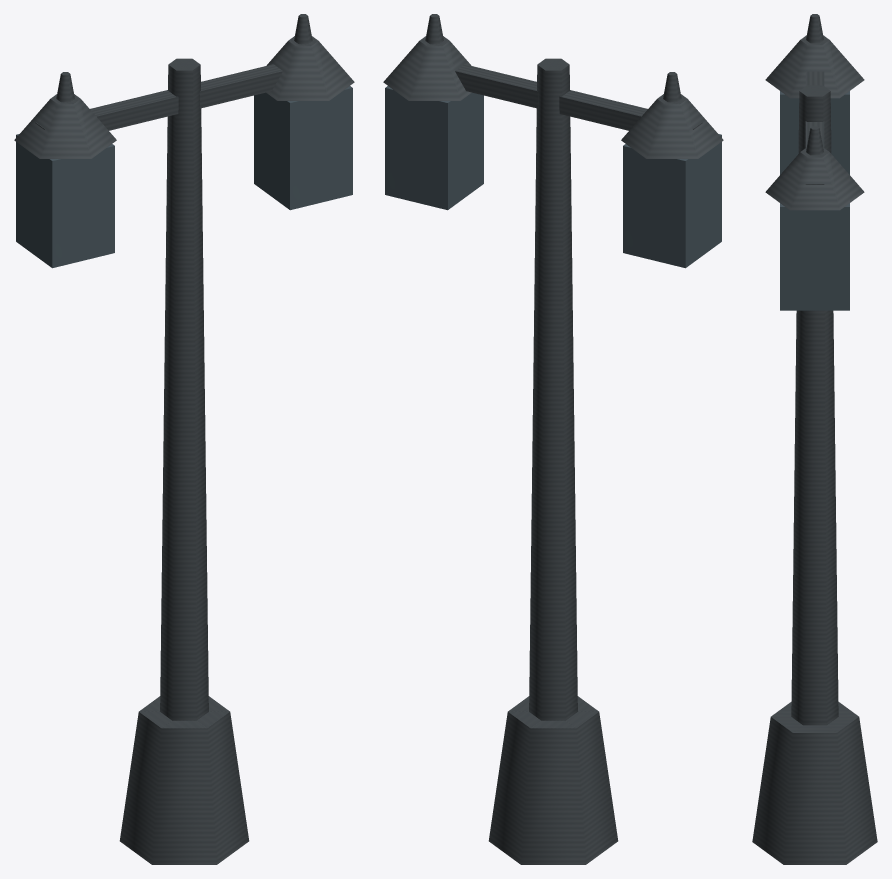
File: street-lamp-heritage.lod1.gltf
3 views of the same model, side by side, from view 1: azimuth 30°, elevation 25°; view 2: azimuth 150°, elevation 25°; view 3: azimuth 270°, elevation 25° (orthographic). The views are drawn at different scales.
Parts seen in each view (by area): view 1: street-lamp-heritage; view 2: street-lamp-heritage; view 3: street-lamp-heritage.
Part boxes in pixels (box(x1,y1,x2,y2)): street-lamp-heritage: box(14, 14, 354, 864); street-lamp-heritage: box(383, 14, 723, 864); street-lamp-heritage: box(752, 14, 877, 864).
Bounding box in the file's own units: 1.91 × 4.61 × 0.68.
2 materials, 2 textured.
